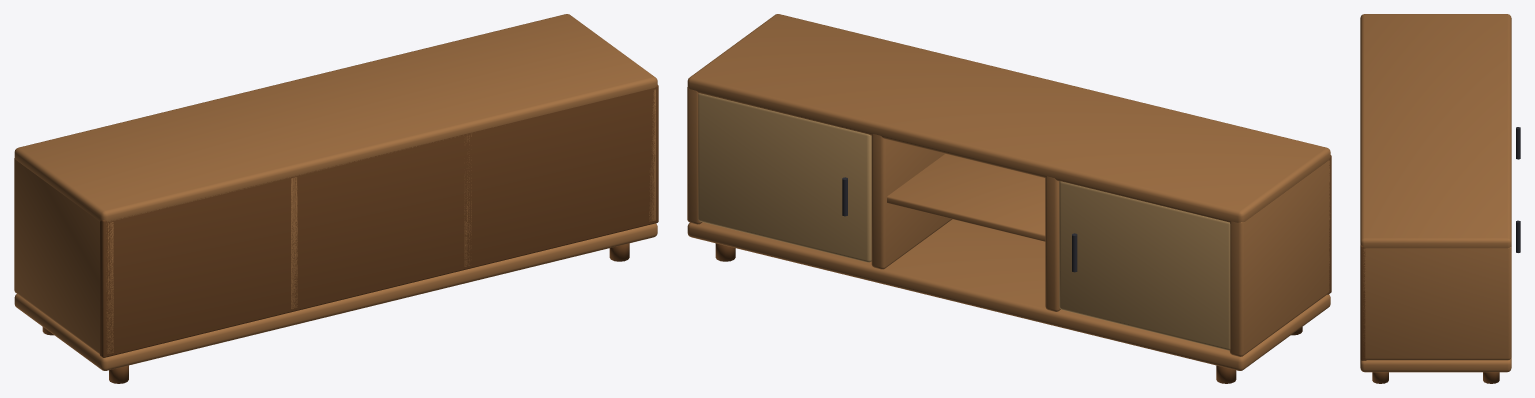
Rendered from tv_stand.glb.
The picture shows the model from 3 angles, left to right: view 1: azimuth 30°, elevation 25°; view 2: azimuth 150°, elevation 25°; view 3: azimuth 270°, elevation 25°; orthographic projection. The views are drawn at different scales.
Parts seen in each view (by area): view 1: tv_stand; view 2: tv_stand; view 3: tv_stand.
Part boxes in pixels (x1,y1,x2,y2): tv_stand: [14, 14, 658, 383]; tv_stand: [687, 14, 1331, 383]; tv_stand: [1360, 14, 1520, 383].
Bounding box in the file's own units: 1.6 × 0.5 × 0.4769.
